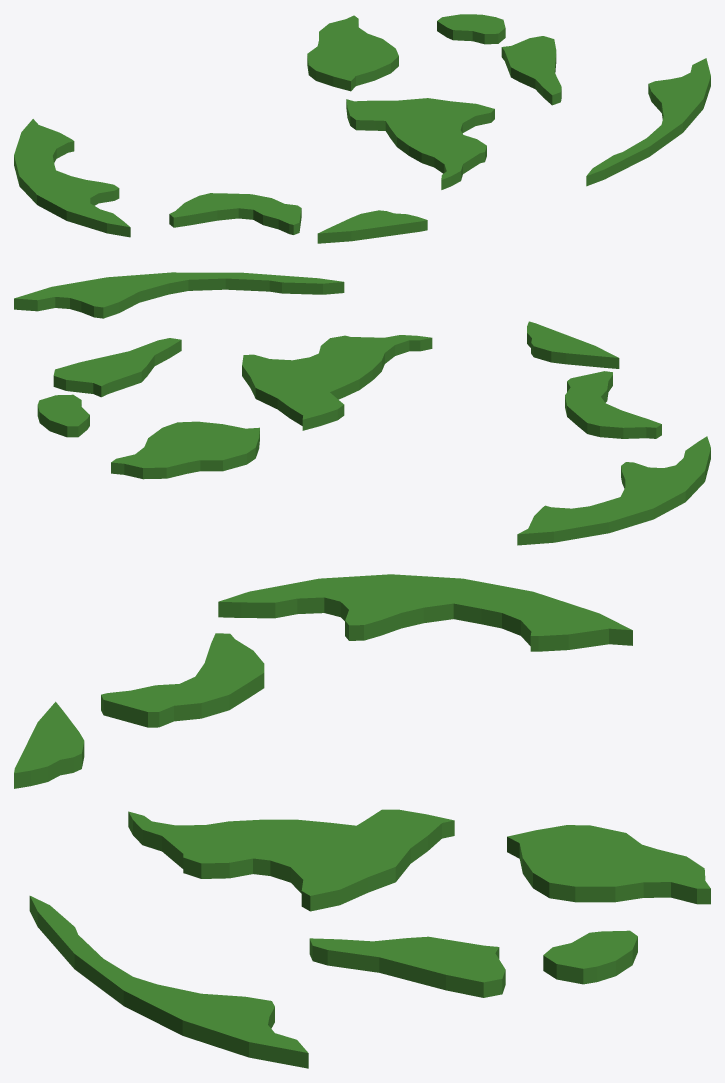
File: enviBlocked_v2_block.fbx
3 renders of one model, top to bottom at view 1: azimuth 30°, elevation 25°; view 2: azimuth 150°, elevation 25°; view 3: azimuth 270°, elevation 25°, orthographic. The views are drawn at different scales.
Visible parts, largest first — view 1: block_v2; view 2: block_v2; view 3: block_v2.
Boxes of the visible parts, x1,y1,x2,y2 form: block_v2: [14, 14, 710, 243]; block_v2: [14, 272, 710, 545]; block_v2: [14, 574, 710, 1068].
Size of the model in its own units: 12828 by 195 by 7891.
